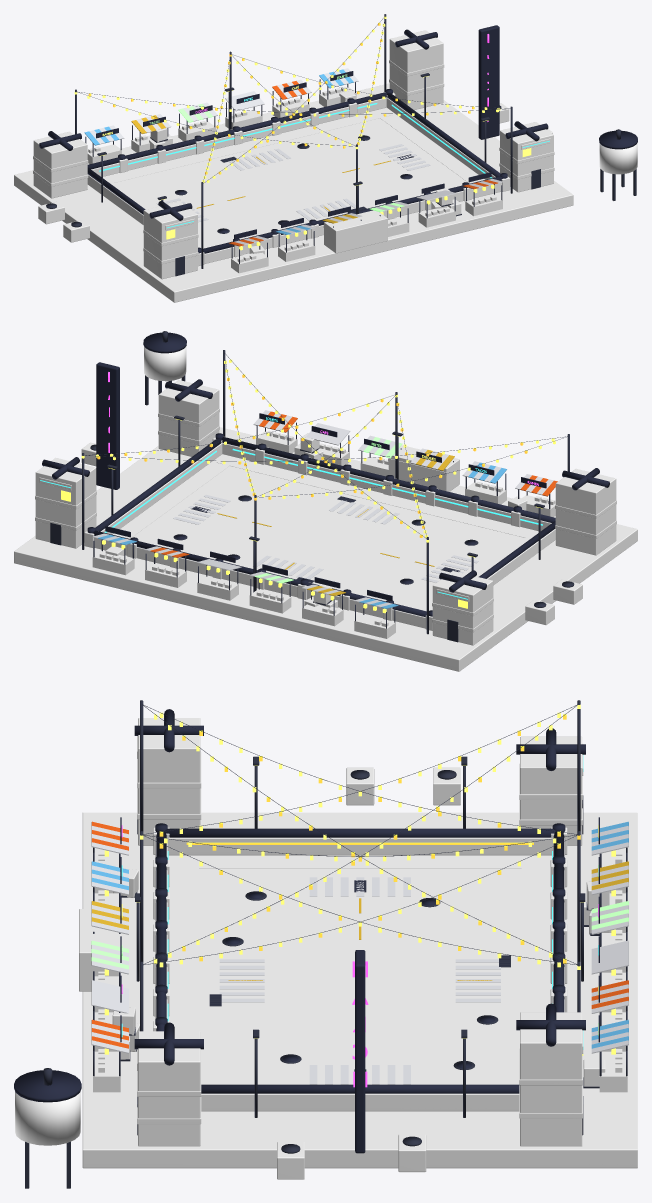
Rendered from toit_court.glb.
The picture shows the model from 3 angles, top to bottom: view 1: azimuth 30°, elevation 25°; view 2: azimuth 150°, elevation 25°; view 3: azimuth 270°, elevation 25°; orthographic projection. The views are drawn at different scales.
Visible parts, largest first — view 1: Dalle, TourB2, TourO1, TourO2, MarcheEnseigne, ParapetL1, TourB1, Conteneur, ParapetL-1, CapL1, BandeN, ParapetP1 (+16 smaller); view 2: Dalle, TourO1, TourB2, TourB1, ParapetL-1, MarcheEnseigne, TourO2, ParapetL1, CapL-1, Conteneur, BandeS, ParapetP1 (+18 smaller); view 3: Dalle, TourB2, ParapetP-1, TourB1, ParapetP1, TourO1, TourO2, CapP-1, CapP1, Reservoir, MarcheEnseigne, BandeS (+13 smaller).
Part boxes in pixels (x1=…): Dalle: x1=14, y1=83, x2=573, y2=302; TourB2: x1=389, y1=30, x2=443, y2=109; TourO1: x1=143, y1=201, x2=197, y2=279; TourO2: x1=33, y1=131, x2=87, y2=198; MarcheEnseigne: x1=478, y1=25, x2=499, y2=139; ParapetL1: x1=91, y1=97, x2=386, y2=176; TourB1: x1=500, y1=122, x2=553, y2=192; Conteneur: x1=324, y1=210, x2=387, y2=253; ParapetL-1: x1=204, y1=182, x2=501, y2=263; CapL1: x1=87, y1=92, x2=387, y2=169; BandeN: x1=107, y1=112, x2=391, y2=183; ParapetP1: x1=386, y1=98, x2=495, y2=179; Dalle: x1=14, y1=427, x2=637, y2=671; TourO1: x1=555, y1=468, x2=616, y2=555; TourB2: x1=35, y1=458, x2=96, y2=548; TourB1: x1=158, y1=380, x2=219, y2=456; ParapetL-1: x1=222, y1=442, x2=551, y2=531; MarcheEnseigne: x1=96, y1=362, x2=119, y2=489; TourO2: x1=432, y1=571, x2=493, y2=645; ParapetL1: x1=94, y1=537, x2=425, y2=628; CapL-1: x1=221, y1=437, x2=555, y2=522; Conteneur: x1=388, y1=445, x2=459, y2=491; BandeS: x1=216, y1=459, x2=532, y2=538; ParapetP1: x1=100, y1=443, x2=222, y2=534; Dalle: x1=82, y1=812, x2=637, y2=1168; TourB2: x1=520, y1=1012, x2=582, y2=1146; ParapetP-1: x1=167, y1=837, x2=552, y2=855; TourB1: x1=138, y1=1031, x2=200, y2=1146; ParapetP1: x1=201, y1=1093, x2=519, y2=1111; TourO1: x1=138, y1=718, x2=200, y2=845; TourO2: x1=520, y1=736, x2=582, y2=845; CapP-1: x1=164, y1=828, x2=555, y2=837; CapP1: x1=201, y1=1084, x2=519, y2=1093; Reservoir: x1=15, y1=1091, x2=80, y2=1145; MarcheEnseigne: x1=355, y1=950, x2=365, y2=1153; BandeS: x1=186, y1=858, x2=198, y2=1031.
Size of the model in its own units: 55.05 by 13.2 by 35.95.
